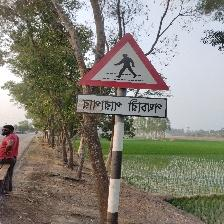Pedestrian-crossing: (76, 33, 171, 120)
